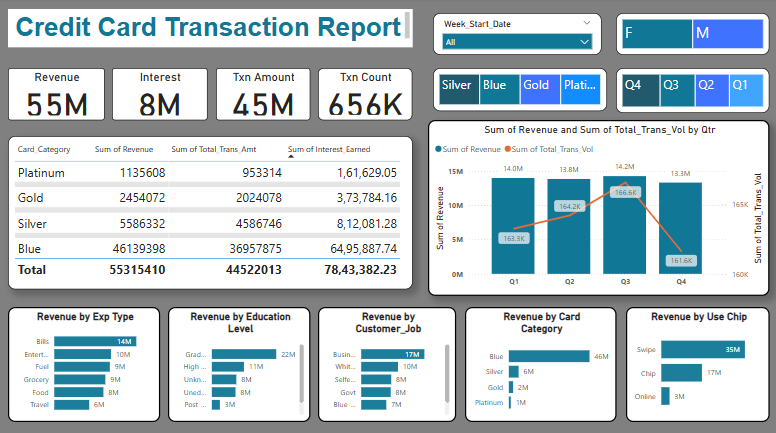

What the dashboard file says about the page in this screenshot:
{"tool":"powerbi","page":{"name":"Page 2","canvas":[1280,720],"ordinal":1},"visuals":[{"type":"textbox","box":[15.9,17.6,664.7,63.5],"z":0},{"type":"treemap","fields":{"Group":["credit_card.Qtr"],"Values":["Avg(credit_card.Client_Num)"]},"box":[1015.5,114.6,252.1,74],"z":1000},{"type":"barChart","title":"Revenue by Exp Type","fields":{"Y":["Sum(credit_card.Revenue)"],"Category":["credit_card.Exp Type"]},"box":[15.9,507.8,250.4,188.7],"z":2000},{"type":"barChart","title":"Revenue by Education Level","fields":{"Y":["Sum(credit_card.Revenue)"],"Category":["customer.Education_Level"]},"box":[278.6,507.8,234.5,188.7],"z":3000},{"type":"barChart","title":"Revenue by Card Category","fields":{"Y":["Sum(credit_card.Revenue)"],"Category":["credit_card.Card_Category"]},"box":[766.9,507.8,248.6,188.7],"z":4000},{"type":"barChart","title":"Revenue by Customer_Job","fields":{"Y":["Sum(credit_card.Revenue)"],"Category":["customer.Customer_Job"]},"box":[525.4,507.8,227.4,188.7],"z":5000},{"type":"barChart","title":"Revenue by Use Chip","fields":{"Y":["Sum(credit_card.Revenue)"],"Category":["credit_card.Use Chip"]},"box":[1031.4,507.8,236.3,188.7],"z":6000},{"type":"tableEx","fields":{"Values":["credit_card.Card_Category","Sum(credit_card.Revenue)","Sum(credit_card.Total_Trans_Amt)","Sum(credit_card.Interest_Earned)"]},"box":[15.9,227.4,664.7,252.1],"z":7000},{"type":"card","title":"Revenue","fields":{"Values":["Sum(credit_card.Revenue)"]},"box":[15.9,114.6,158.7,86.4],"z":8000},{"type":"card","title":"Txn Count","fields":{"Values":["Sum(credit_card.Total_Trans_Vol)"]},"box":[525.4,114.6,155.2,86.4],"z":9000},{"type":"card","title":"Txn Amount","fields":{"Values":["Sum(credit_card.Total_Trans_Amt)"]},"box":[357.9,114.6,155.2,86.4],"z":10000},{"type":"card","title":"Interest","fields":{"Values":["Sum(credit_card.Interest_Earned)"]},"box":[186.9,114.6,156.9,86.4],"z":11000},{"type":"slicer","fields":{"Values":["credit_card.Week_Start_Date"]},"box":[714,24.7,276.8,68.8],"z":12000},{"type":"treemap","fields":{"Group":["customer.Gender"],"Values":["Avg(credit_card.Client_Num)"]},"box":[1015.5,24.7,252.1,68.8],"z":13000},{"type":"treemap","fields":{"Group":["credit_card.Card_Category"],"Values":["Avg(credit_card.Client_Num)"]},"box":[714,114.6,285.6,70.5],"z":14000},{"type":"lineStackedColumnComboChart","fields":{"Category":["credit_card.Qtr"],"Y":["Sum(credit_card.Revenue)"],"Y2":["Sum(credit_card.Total_Trans_Vol)"]},"box":[707,201,560.7,289.1],"z":15000}]}

Visuals, with their boxes in screenshot pixels (x1, y1, x2, y2), scaled from the page's 1280x720 canvas onto the 776x433 screenshot:
textbox: pyautogui.locateOnScreen(10, 11, 413, 49)
treemap - credit_card.Qtr x Avg(credit_card.Client_Num): pyautogui.locateOnScreen(616, 69, 768, 113)
"Revenue by Exp Type" barChart: pyautogui.locateOnScreen(10, 305, 161, 419)
"Revenue by Education Level" barChart: pyautogui.locateOnScreen(169, 305, 311, 419)
"Revenue by Card Category" barChart: pyautogui.locateOnScreen(465, 305, 616, 419)
"Revenue by Customer_Job" barChart: pyautogui.locateOnScreen(319, 305, 456, 419)
"Revenue by Use Chip" barChart: pyautogui.locateOnScreen(625, 305, 769, 419)
tableEx - credit_card.Card_Category x Sum(credit_card.Revenue): pyautogui.locateOnScreen(10, 137, 413, 288)
"Revenue" card: pyautogui.locateOnScreen(10, 69, 106, 121)
"Txn Count" card: pyautogui.locateOnScreen(319, 69, 413, 121)
"Txn Amount" card: pyautogui.locateOnScreen(217, 69, 311, 121)
"Interest" card: pyautogui.locateOnScreen(113, 69, 208, 121)
slicer - credit_card.Week_Start_Date: pyautogui.locateOnScreen(433, 15, 601, 56)
treemap - customer.Gender x Avg(credit_card.Client_Num): pyautogui.locateOnScreen(616, 15, 768, 56)
treemap - credit_card.Card_Category x Avg(credit_card.Client_Num): pyautogui.locateOnScreen(433, 69, 606, 111)
lineStackedColumnComboChart - credit_card.Qtr x Sum(credit_card.Revenue): pyautogui.locateOnScreen(429, 121, 769, 295)
